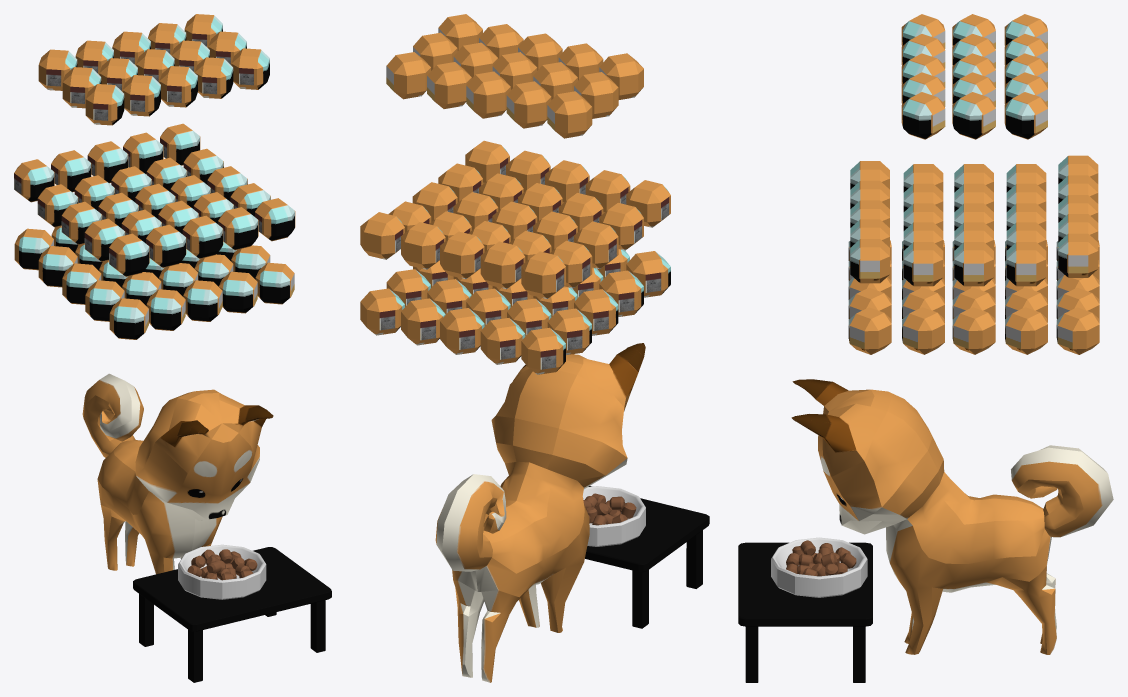
The model's file is fullBowl_frame79.obj.
3 renders of one model, left to right at view 1: azimuth 30°, elevation 25°; view 2: azimuth 150°, elevation 25°; view 3: azimuth 270°, elevation 25°, orthographic. The views are drawn at different scales.
Visible parts, largest first — view 1: newRigging1:BodzL1, Tisch:Tisch:pCube1, FressnapfFull:bulletRigidSetSolved1, FressnapfFull:pCube45, FressnapfFull:pCube46, FressnapfFull:pCube57, FressnapfFull:pCube48, FressnapfFull:pCube50, FressnapfFull:pCube43, FressnapfFull:pCube49, FressnapfFull:pCube42, FressnapfFull:pCube36 (+44 smaller); view 2: newRigging1:BodzL1, Tisch:Tisch:pCube1, FressnapfFull:bulletRigidSetSolved1, FressnapfFull:pCube39, FressnapfFull:pCube51, FressnapfFull:pCube64, FressnapfFull:pCube54, FressnapfFull:pCube37, FressnapfFull:pCube61, FressnapfFull:pCube55, FressnapfFull:pCube53, FressnapfFull:pCube41 (+45 smaller); view 3: newRigging1:BodzL1, Tisch:Tisch:pCube1, FressnapfFull:bulletRigidSetSolved1, FressnapfFull:pCube36, FressnapfFull:pCube4, FressnapfFull:pCube41, FressnapfFull:pCube50, FressnapfFull:pCube55, FressnapfFull:pCube31, FressnapfFull:pCube20, FressnapfFull:pCube10, FressnapfFull:pCube15 (+42 smaller).
Part boxes in pixels (<box>): newRigging1:BodzL1: <box>82,373,273,574</box>; Tisch:Tisch:pCube1: <box>133,547,331,682</box>; FressnapfFull:bulletRigidSetSolved1: <box>178,544,266,599</box>; FressnapfFull:pCube45: <box>85,84,124,125</box>; FressnapfFull:pCube46: <box>109,298,148,339</box>; FressnapfFull:pCube57: <box>109,233,149,276</box>; FressnapfFull:pCube48: <box>183,280,222,321</box>; FressnapfFull:pCube50: <box>255,262,294,304</box>; FressnapfFull:pCube43: <box>159,66,197,107</box>; FressnapfFull:pCube49: <box>146,289,185,330</box>; FressnapfFull:pCube42: <box>122,75,160,116</box>; FressnapfFull:pCube36: <box>231,48,269,89</box>; newRigging1:BodzL1: <box>435,343,645,682</box>; Tisch:Tisch:pCube1: <box>585,486,709,628</box>; FressnapfFull:bulletRigidSetSolved1: <box>582,486,645,546</box>; FressnapfFull:pCube39: <box>547,91,592,138</box>; FressnapfFull:pCube51: <box>521,327,565,374</box>; FressnapfFull:pCube64: <box>521,251,565,298</box>; FressnapfFull:pCube54: <box>480,318,525,364</box>; FressnapfFull:pCube37: <box>506,81,551,128</box>; FressnapfFull:pCube61: <box>480,241,525,289</box>; FressnapfFull:pCube55: <box>360,288,404,335</box>; FressnapfFull:pCube53: <box>440,308,484,354</box>; FressnapfFull:pCube41: <box>386,52,430,99</box>; newRigging1:BodzL1: <box>791,379,1113,654</box>; Tisch:Tisch:pCube1: <box>738,542,872,682</box>; FressnapfFull:bulletRigidSetSolved1: <box>771,537,867,597</box>; FressnapfFull:pCube36: <box>901,92,945,139</box>; FressnapfFull:pCube4: <box>952,307,995,354</box>; FressnapfFull:pCube41: <box>1004,92,1047,139</box>; FressnapfFull:pCube50: <box>848,307,891,354</box>; FressnapfFull:pCube55: <box>1056,307,1099,354</box>; FressnapfFull:pCube31: <box>952,92,995,139</box>; FressnapfFull:pCube20: <box>1006,242,1046,286</box>; FressnapfFull:pCube10: <box>902,307,944,354</box>; FressnapfFull:pCube15: <box>1005,307,1047,354</box>.
Bounding box in the file's own units: 5.73 × 16.34 × 9.44.
Materials: 4 (3 with a texture image).
